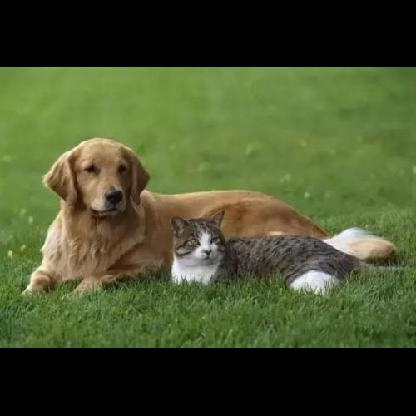狗: (26, 137, 393, 294)
猫: (168, 207, 360, 293)
